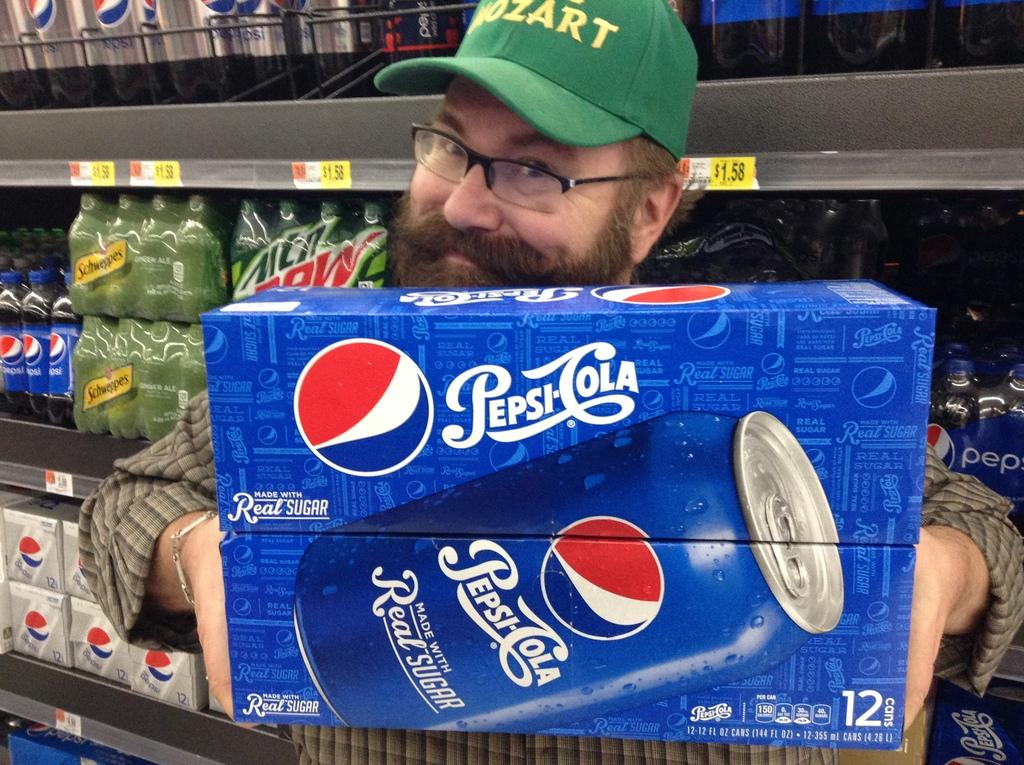Hat: (376, 0, 698, 155)
